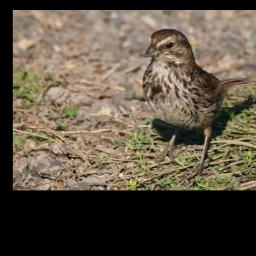Sparrow: (142, 28, 256, 181)
